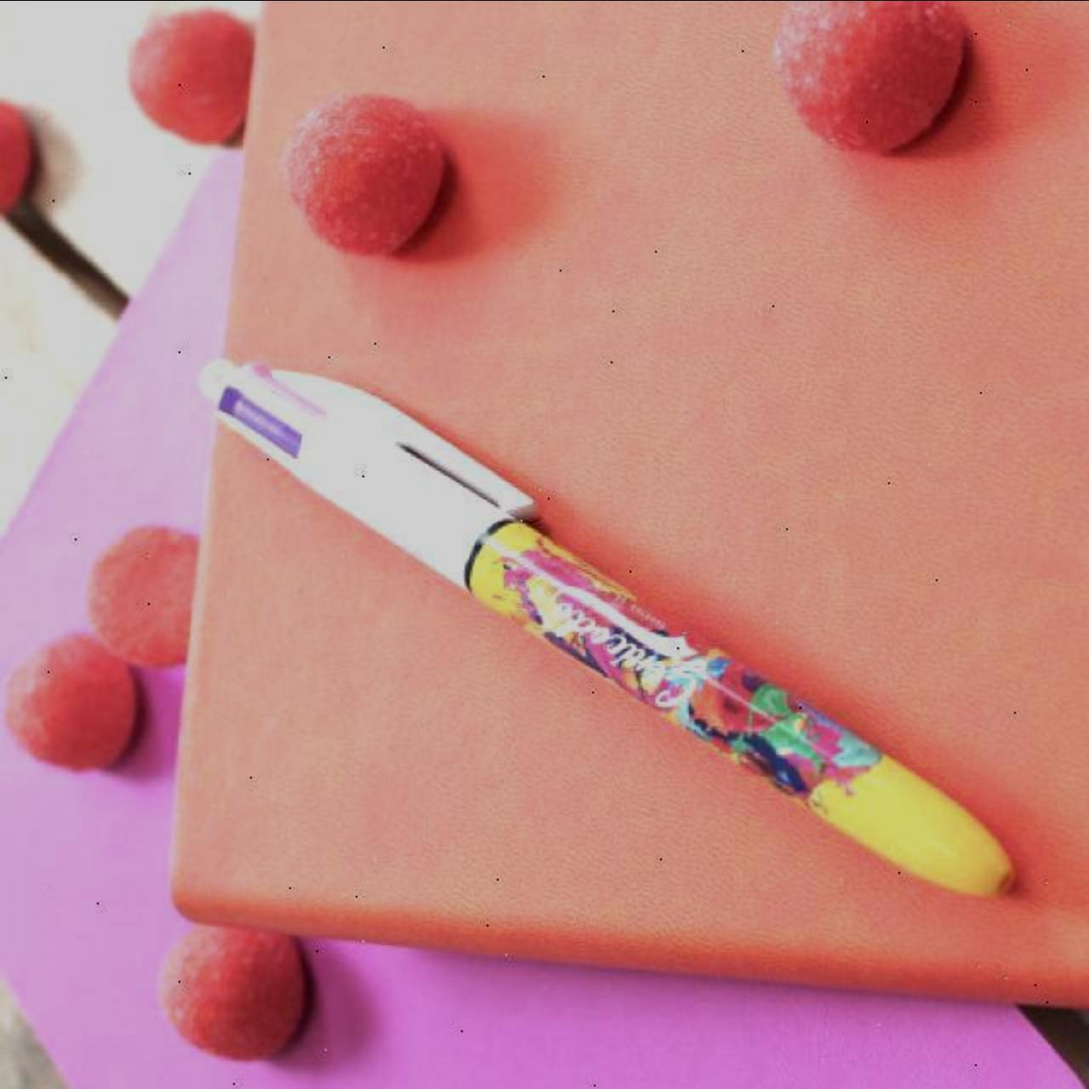pen: (196, 361, 1016, 890)
